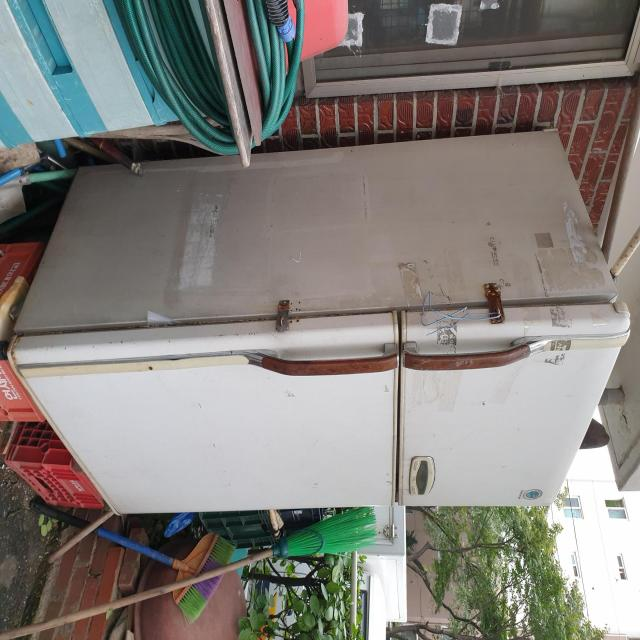refrigerator: (5, 125, 555, 516)
